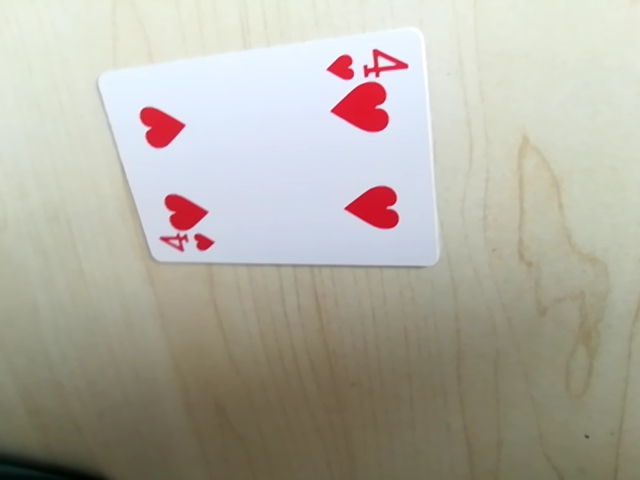hx 4: (324, 40, 413, 85), (154, 228, 216, 260)
